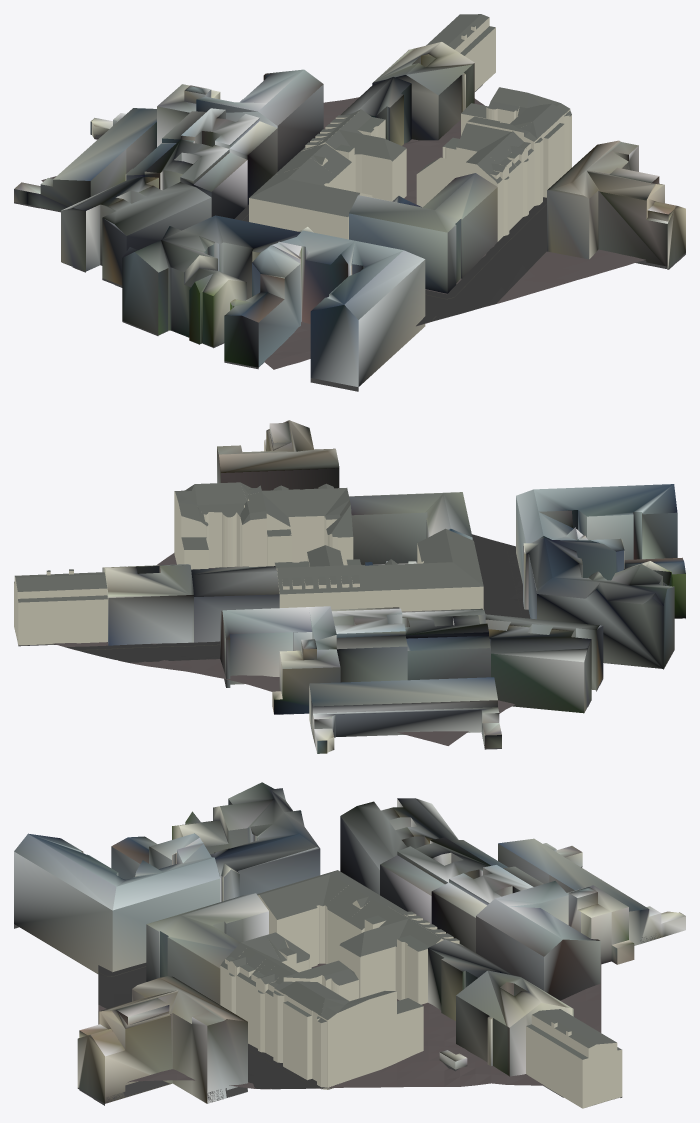
The picture shows the model from 3 angles, top to bottom: view 1: azimuth 30°, elevation 25°; view 2: azimuth 150°, elevation 25°; view 3: azimuth 270°, elevation 25°; orthographic projection. The views are drawn at different scales.
Visible parts, largest first — view 1: c_m07_p08; view 2: c_m07_p08; view 3: c_m07_p08.
Part boxes in pixels (<box>): c_m07_p08: <box>14,14,685,391</box>; c_m07_p08: <box>14,420,685,753</box>; c_m07_p08: <box>14,782,685,1108</box>.
Bounding box in the file's own units: 163 × 30.48 × 171.
